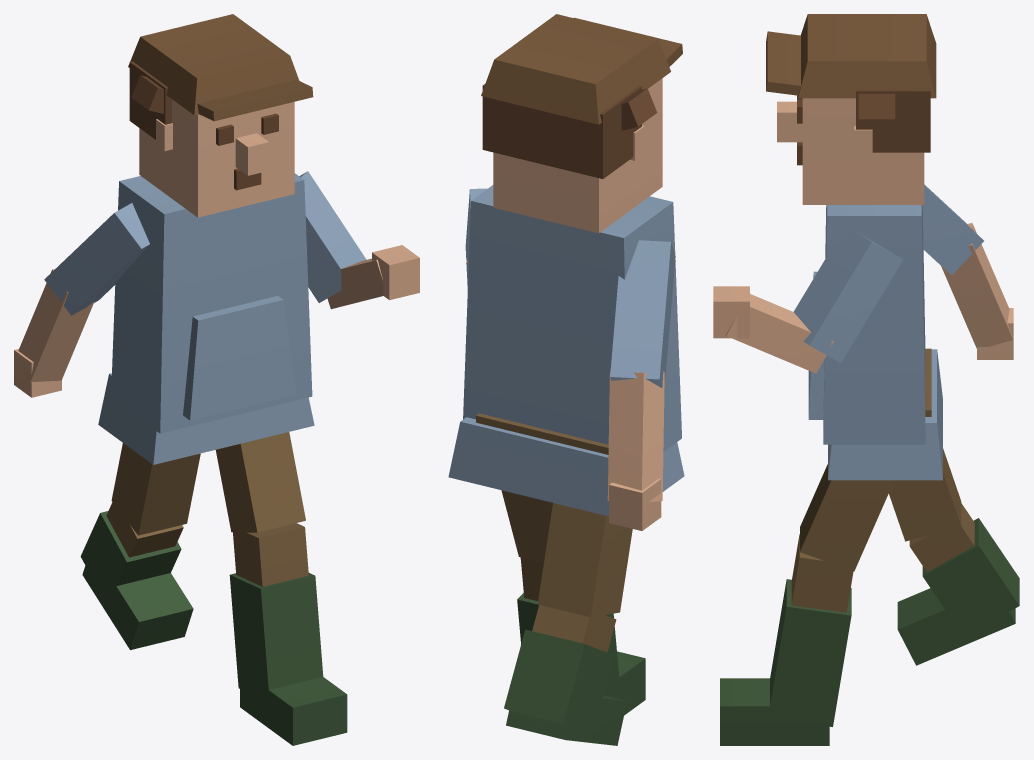
The model's file is SM_Neighbour.glb.
The picture shows the model from 3 angles, left to right: view 1: azimuth 30°, elevation 25°; view 2: azimuth 150°, elevation 25°; view 3: azimuth 270°, elevation 25°; orthographic projection. The views are drawn at different scales.
Visible parts, largest first — view 1: SM_Neighbour; view 2: SM_Neighbour; view 3: SM_Neighbour.
Boxes of the visible parts, x1,y1,x2,y2 form: SM_Neighbour: [14, 14, 419, 745]; SM_Neighbour: [448, 14, 684, 745]; SM_Neighbour: [713, 14, 1019, 745].
Bounding box in the file's own units: 0.8698 × 2.04 × 0.8364.
1 material, 1 textured.
